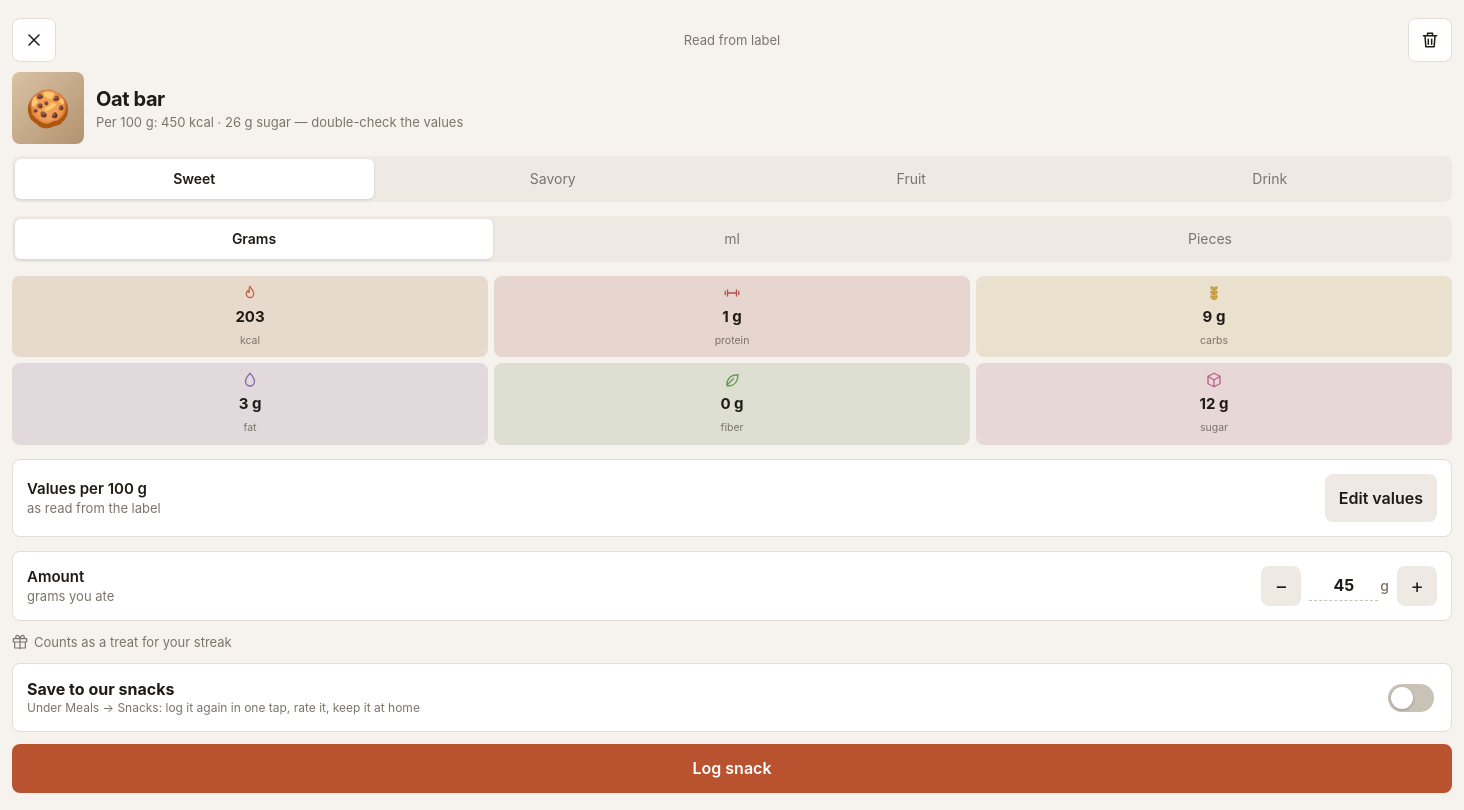
SnackPage › takes a typed amount below the stepper step (2 g) but not zero
The image size is (1464, 810).
Replace the text in the field named "amount" with "2" at x=1344, y=586, box left=1309, top=570, right=1378, bottom=602
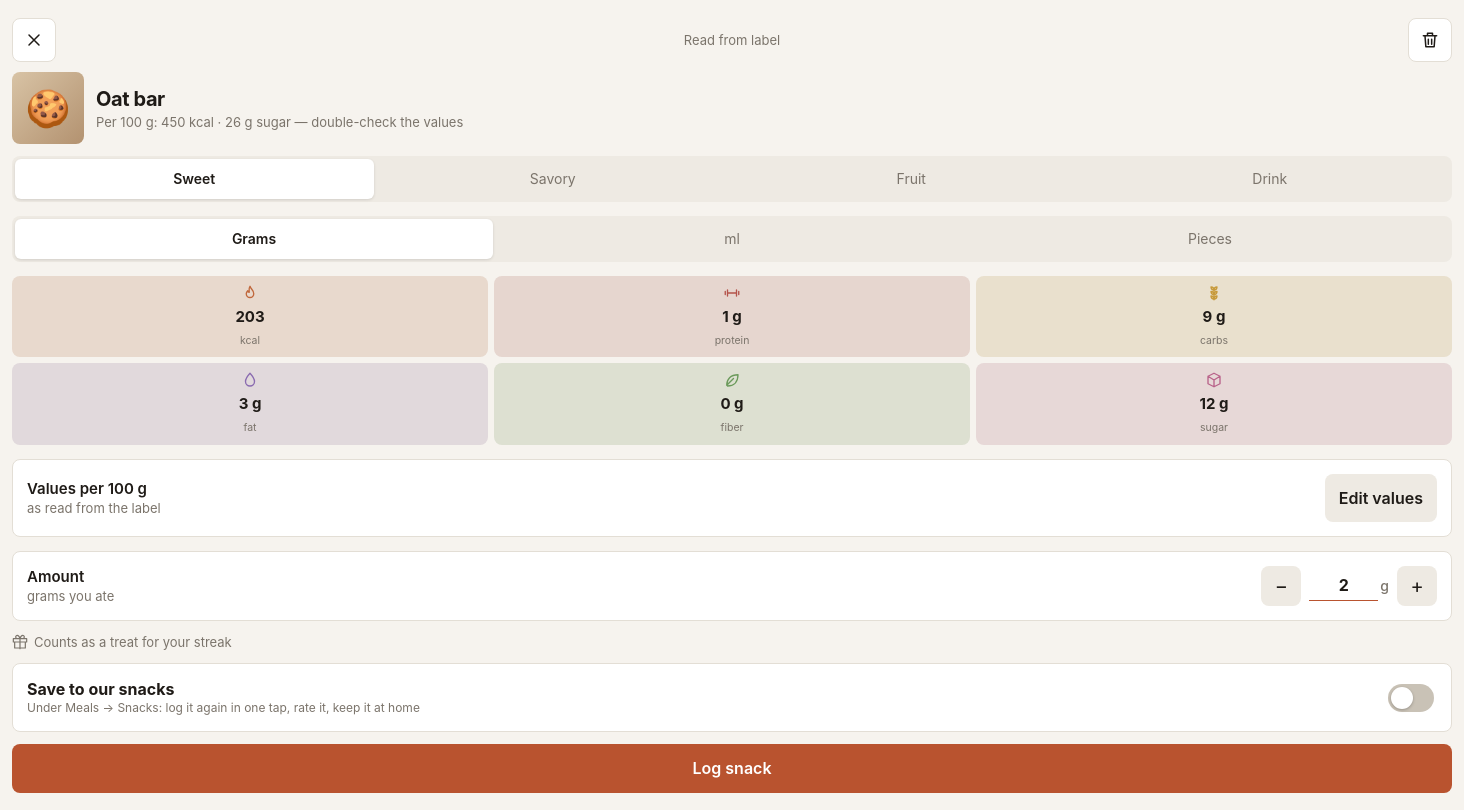
Leave the field named "amount", box left=1309, top=570, right=1378, bottom=602
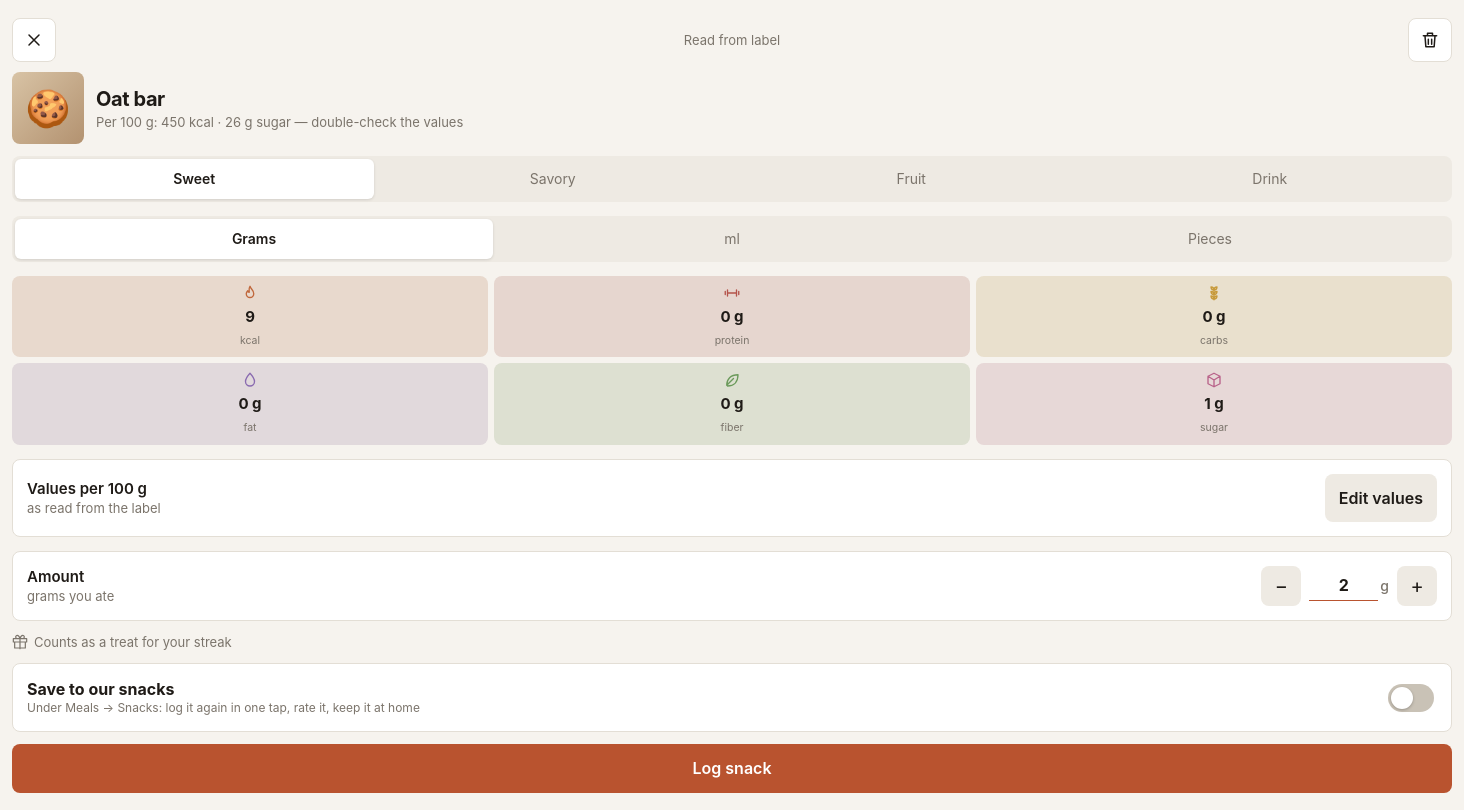
expect the text with test id "macro-kcal" reads "9": met, box left=245, top=307, right=255, bottom=326
Replace the text in the field named "amount" with "0" at x=1344, y=586, box left=1309, top=570, right=1378, bottom=602
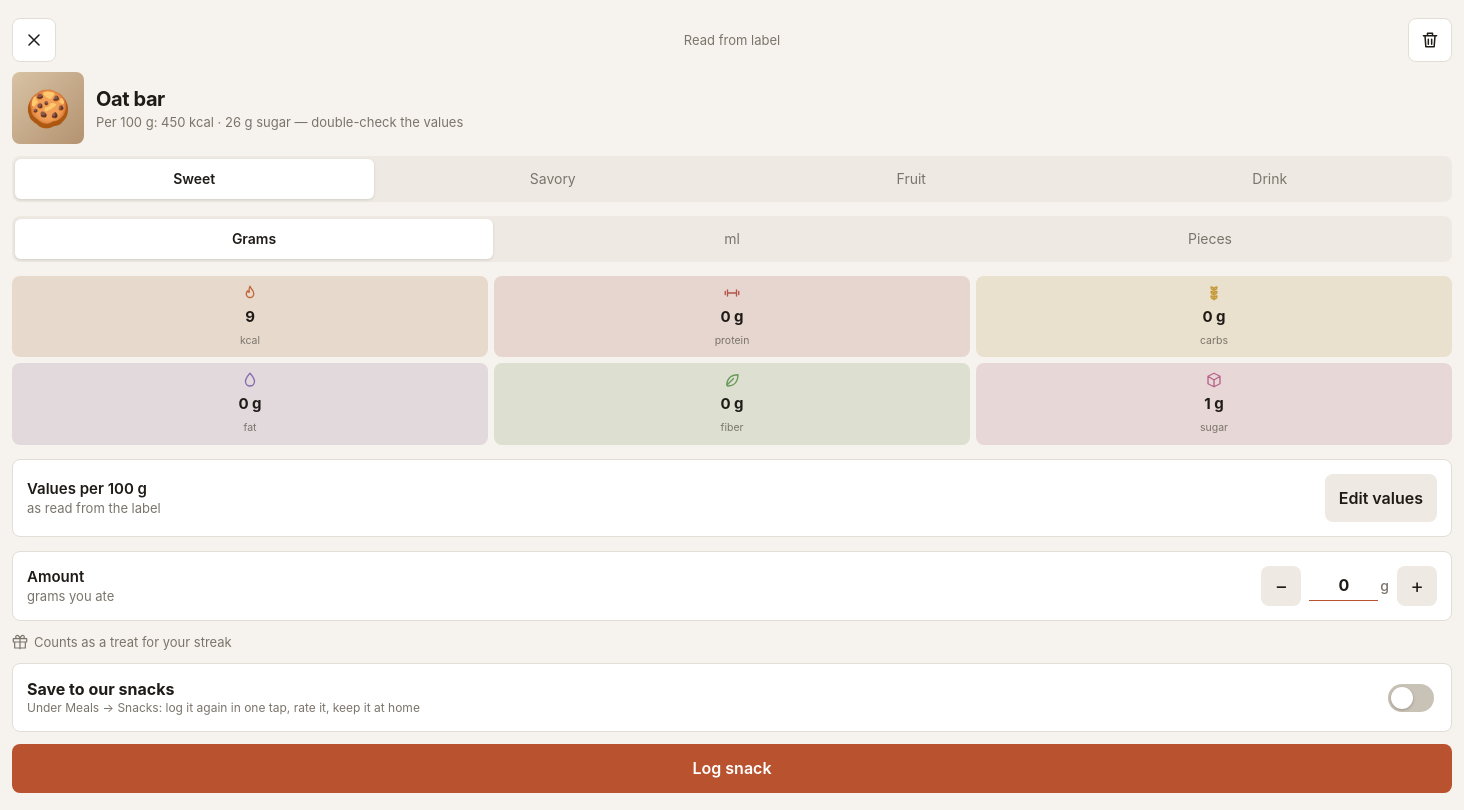
Leave the field named "amount", box left=1309, top=570, right=1378, bottom=602
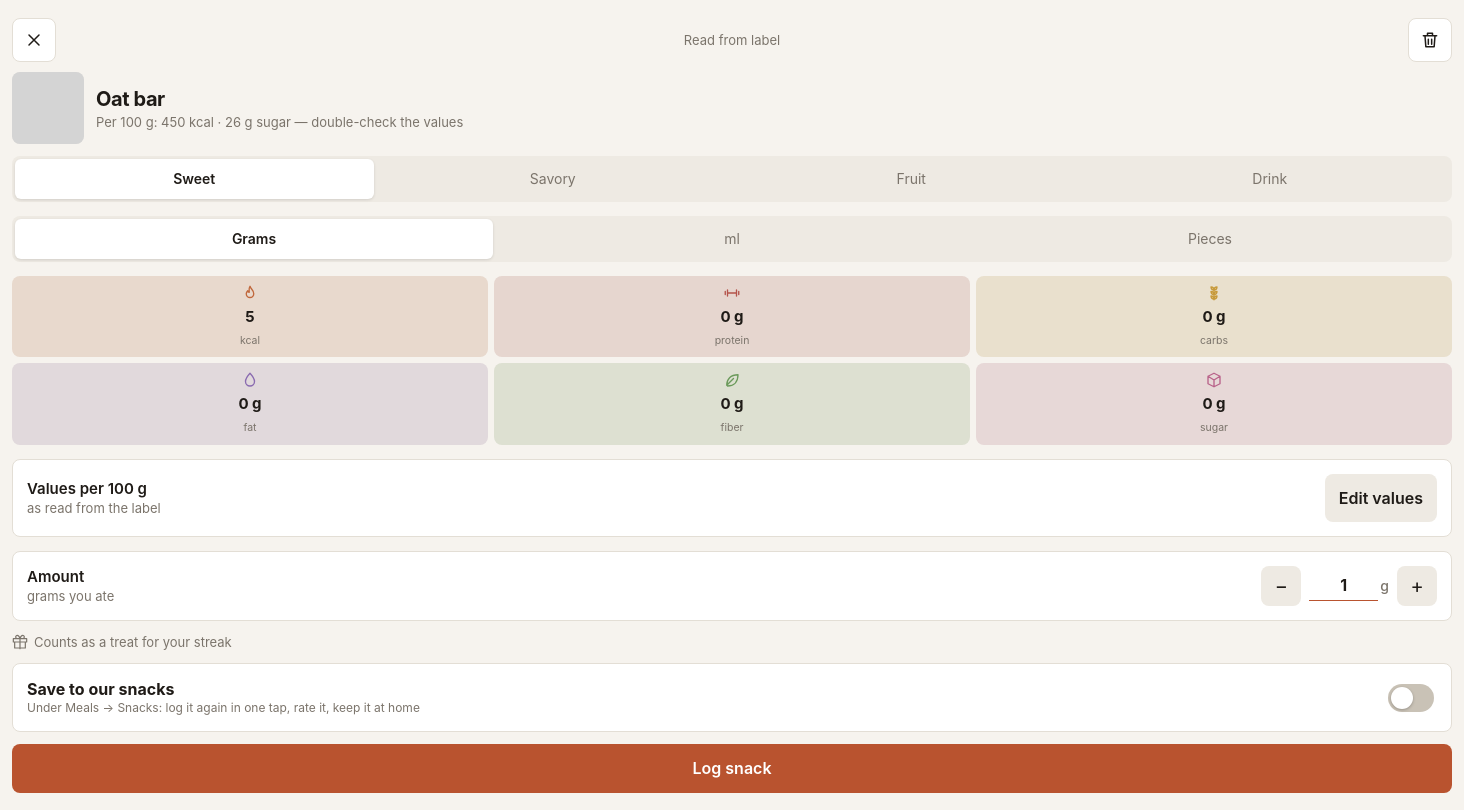
expect the field named "amount" holds "1": met, box left=1309, top=570, right=1378, bottom=602
